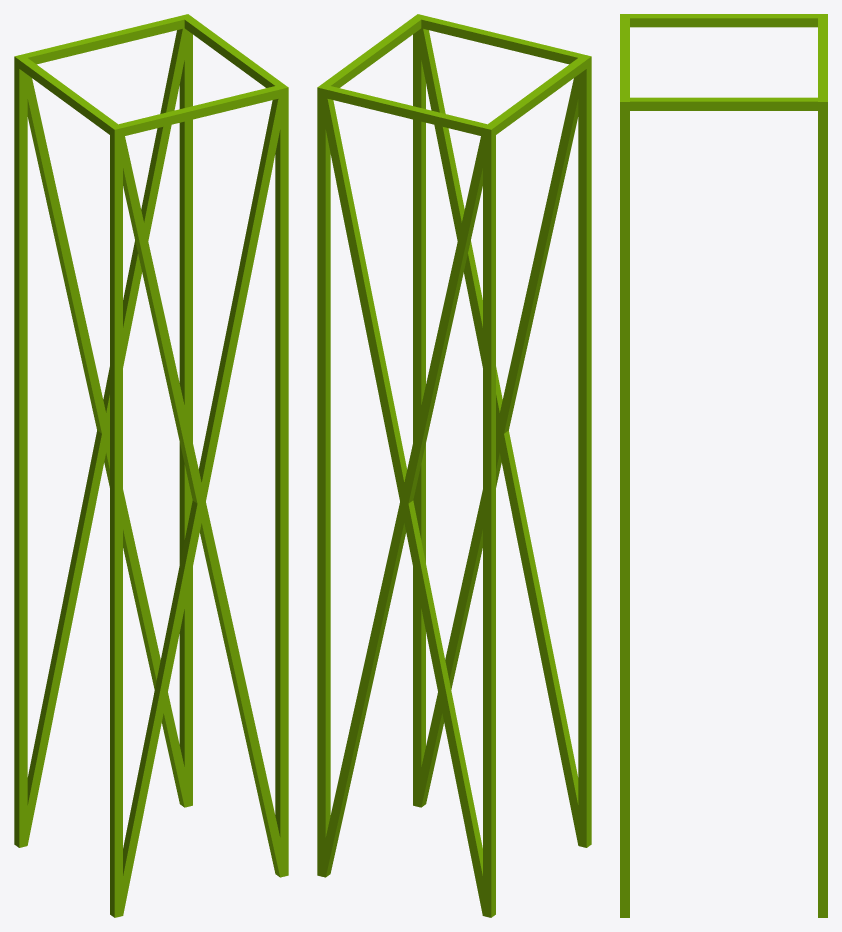
The model's file is Plant_Stand_1.FBX.
3 views of the same model, side by side, from view 1: azimuth 30°, elevation 25°; view 2: azimuth 150°, elevation 25°; view 3: azimuth 270°, elevation 25° (orthographic). The views are drawn at different scales.
Visible parts, largest first — view 1: Box015; view 2: Box015; view 3: Box015.
Boxes of the visible parts, x1,y1,x2,y2 form: Box015: [14, 14, 288, 917]; Box015: [317, 14, 591, 917]; Box015: [620, 14, 827, 917].
Size of the model in its own units: 0.3203 by 1.39 by 0.3204.
